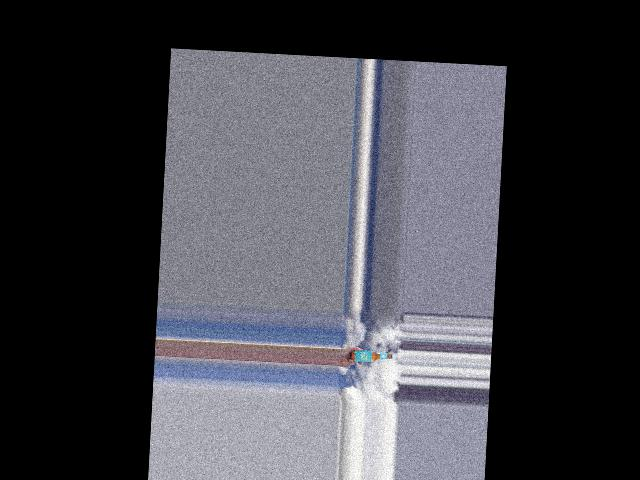beer: (350, 349, 392, 362)
